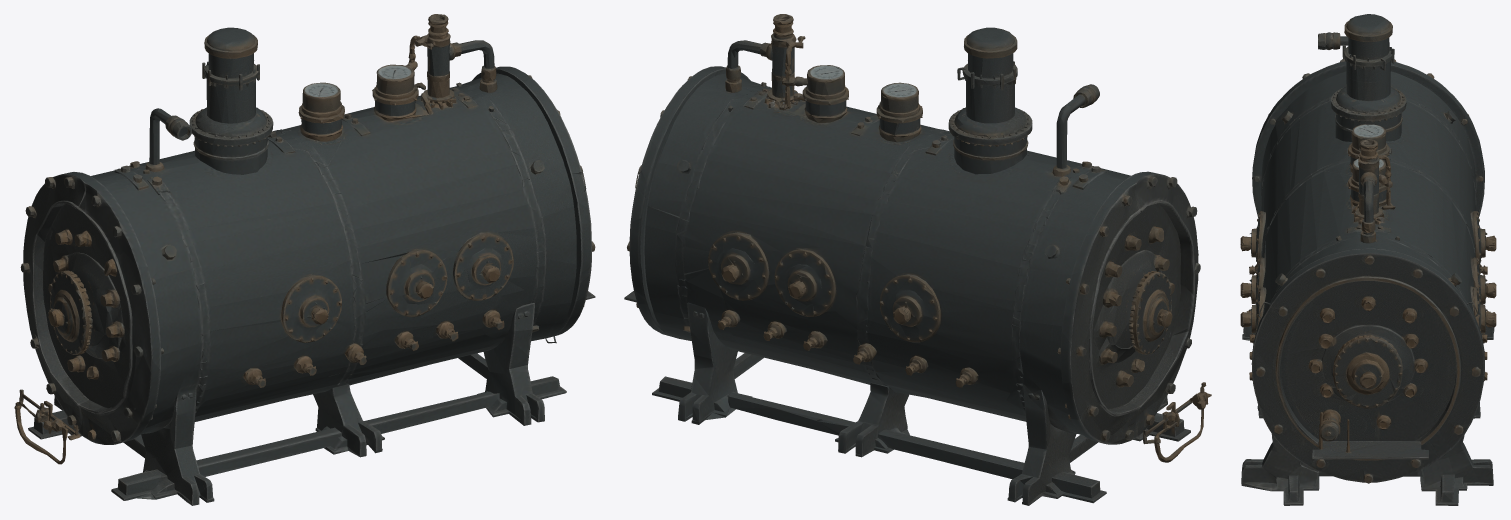
The model's file is boiler.glb.
The picture shows the model from 3 angles, left to right: view 1: azimuth 30°, elevation 25°; view 2: azimuth 150°, elevation 25°; view 3: azimuth 270°, elevation 25°; orthographic projection. The views are drawn at different scales.
Bounding box in the file's own units: 1.9 × 1.34 × 0.8708.
1 material, 1 textured.
